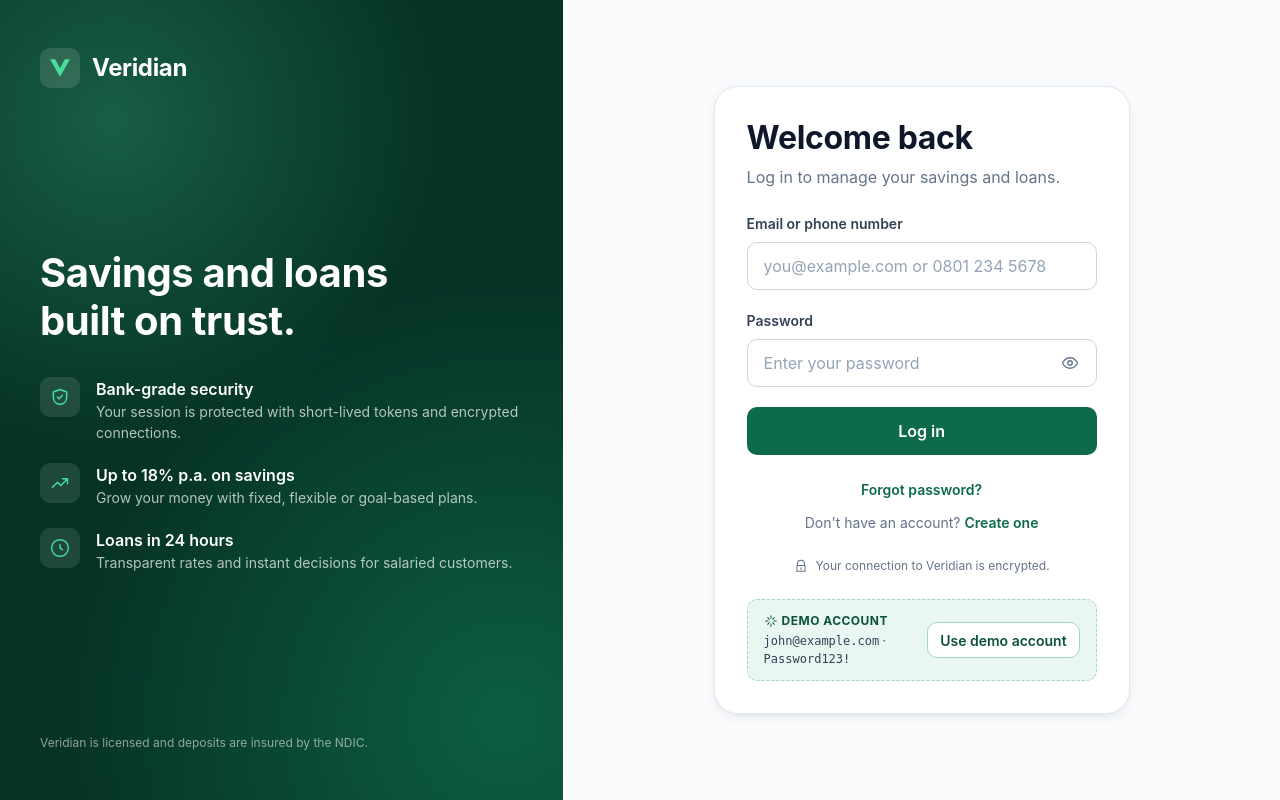
application flows › shows a clear message on a failed login and stays on the page
Type "john@example.com" into the field labelled "Email or phone number" at (922, 266), box top-left (748, 243), bottom-right (1096, 289)
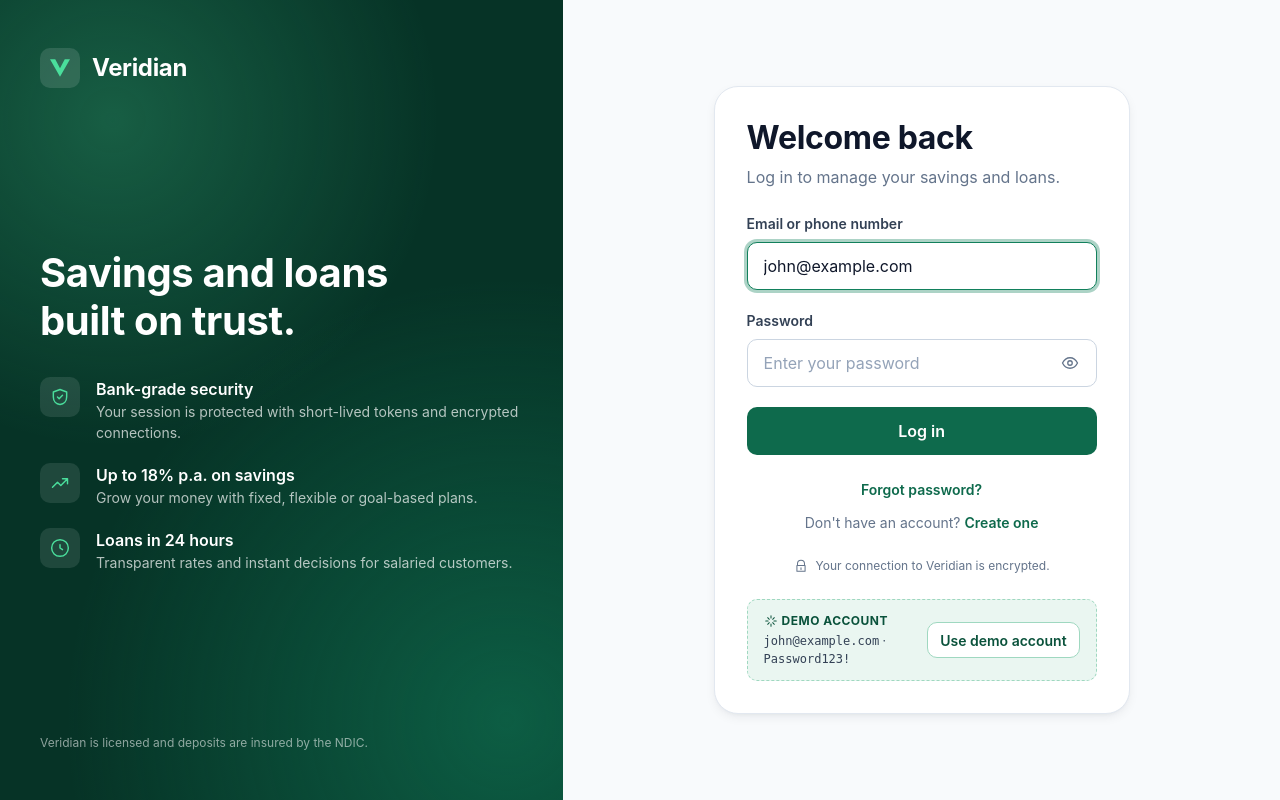
Type "WrongPassword1" into the password field labelled "Password" at (900, 363), box top-left (748, 340), bottom-right (1052, 386)
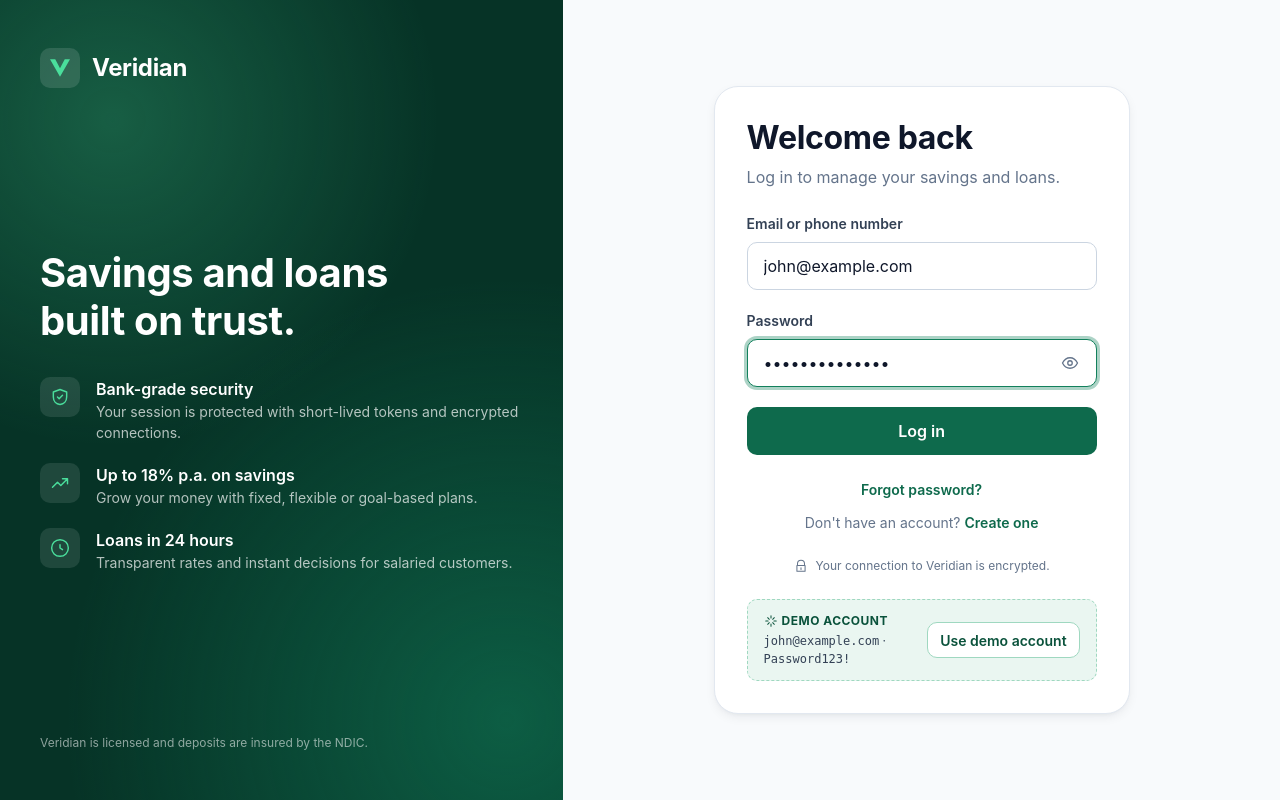
Click the button "Log in" at (922, 431), box top-left (747, 407), bottom-right (1097, 455)
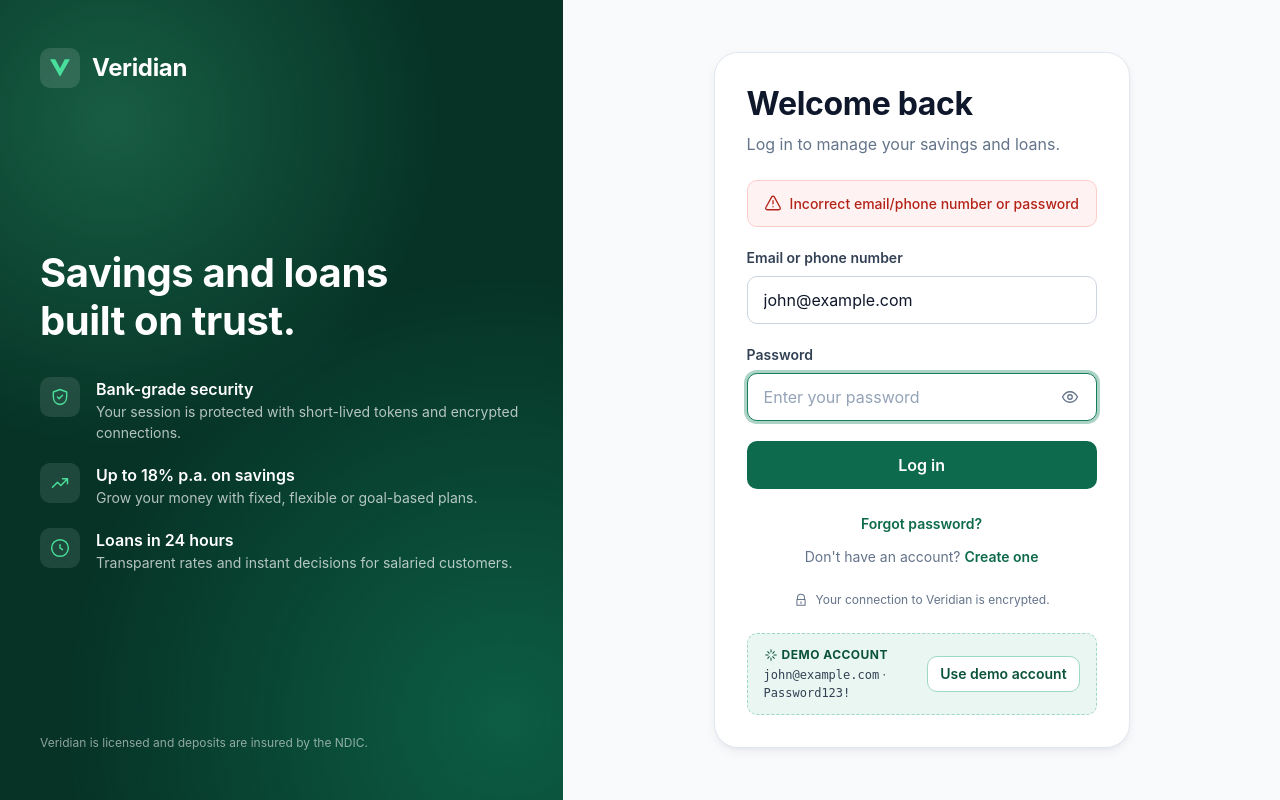
Expected: the message reads "Incorrect email/phone number or password", top-left (790, 194), bottom-right (1079, 212)
